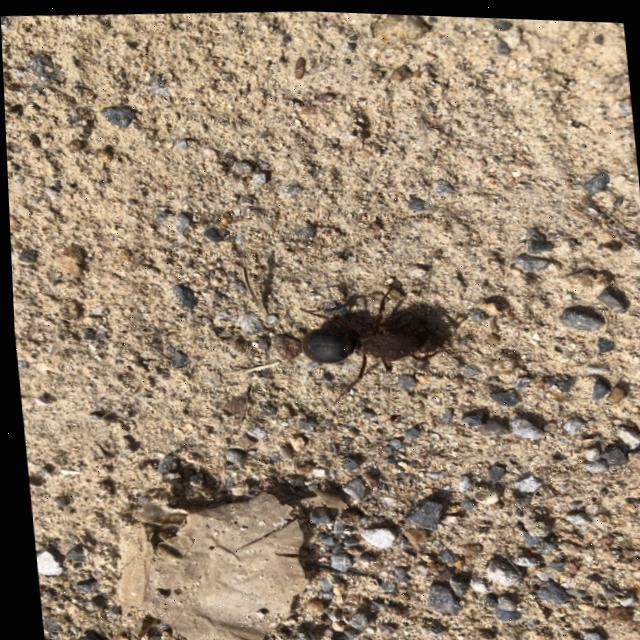Alive-Female-Dealate: (292, 266, 476, 408)
